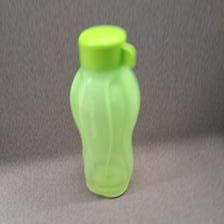bottle: (69, 22, 141, 197)
